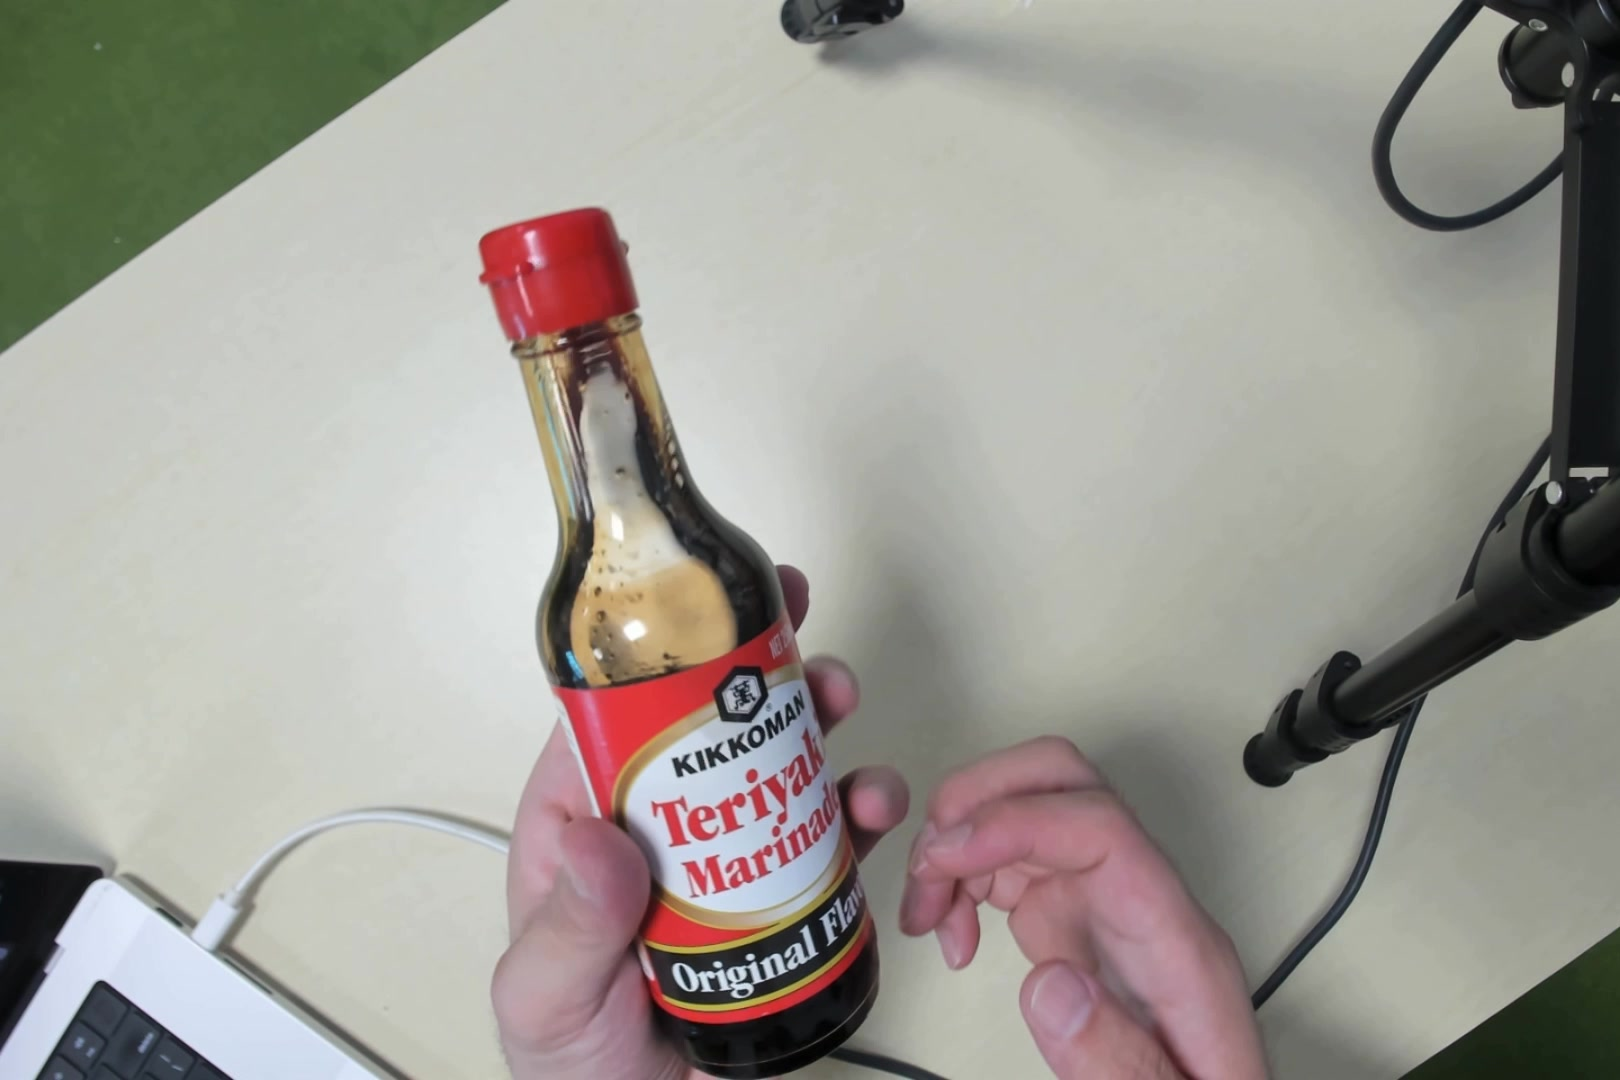OtherSauceDressingSoupbasePaste_200-299g_NonHalal_NonHealthy: (486, 217, 858, 1015)
